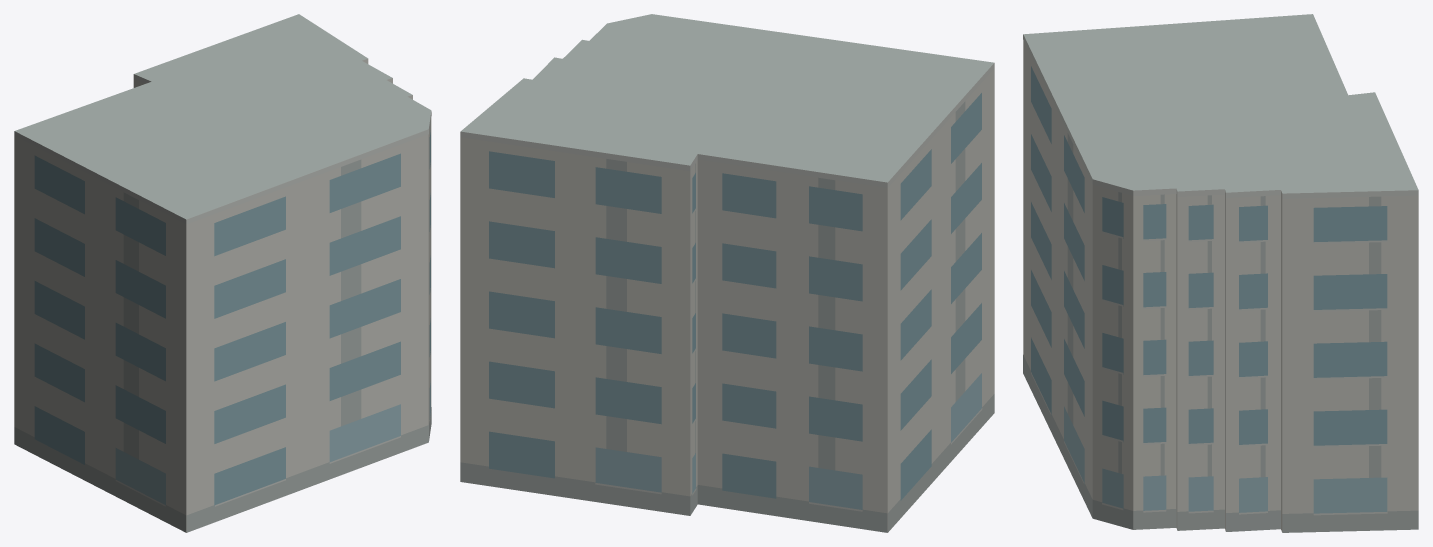
Rendered from survey-upis-32629563.glb.
3 renders of one model, left to right at view 1: azimuth 30°, elevation 25°; view 2: azimuth 150°, elevation 25°; view 3: azimuth 270°, elevation 25°, orthographic. The views are drawn at different scales.
Visible parts, largest first — view 1: survey-upis-32629563.tmp; view 2: survey-upis-32629563.tmp; view 3: survey-upis-32629563.tmp.
Part boxes in pixels (<box>): survey-upis-32629563.tmp: <box>14,14,431,532</box>; survey-upis-32629563.tmp: <box>460,14,994,532</box>; survey-upis-32629563.tmp: <box>1023,14,1418,532</box>.
Size of the model in its own units: 17.32 by 15.25 by 16.12.
